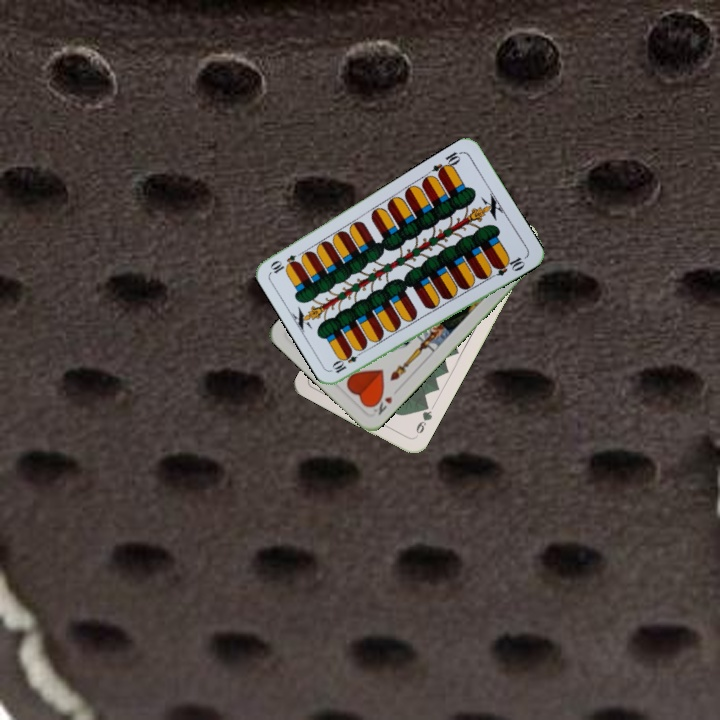E10: (428, 147, 465, 179), (329, 346, 366, 376)
G9: (411, 400, 435, 440)
HK: (365, 390, 395, 418)
